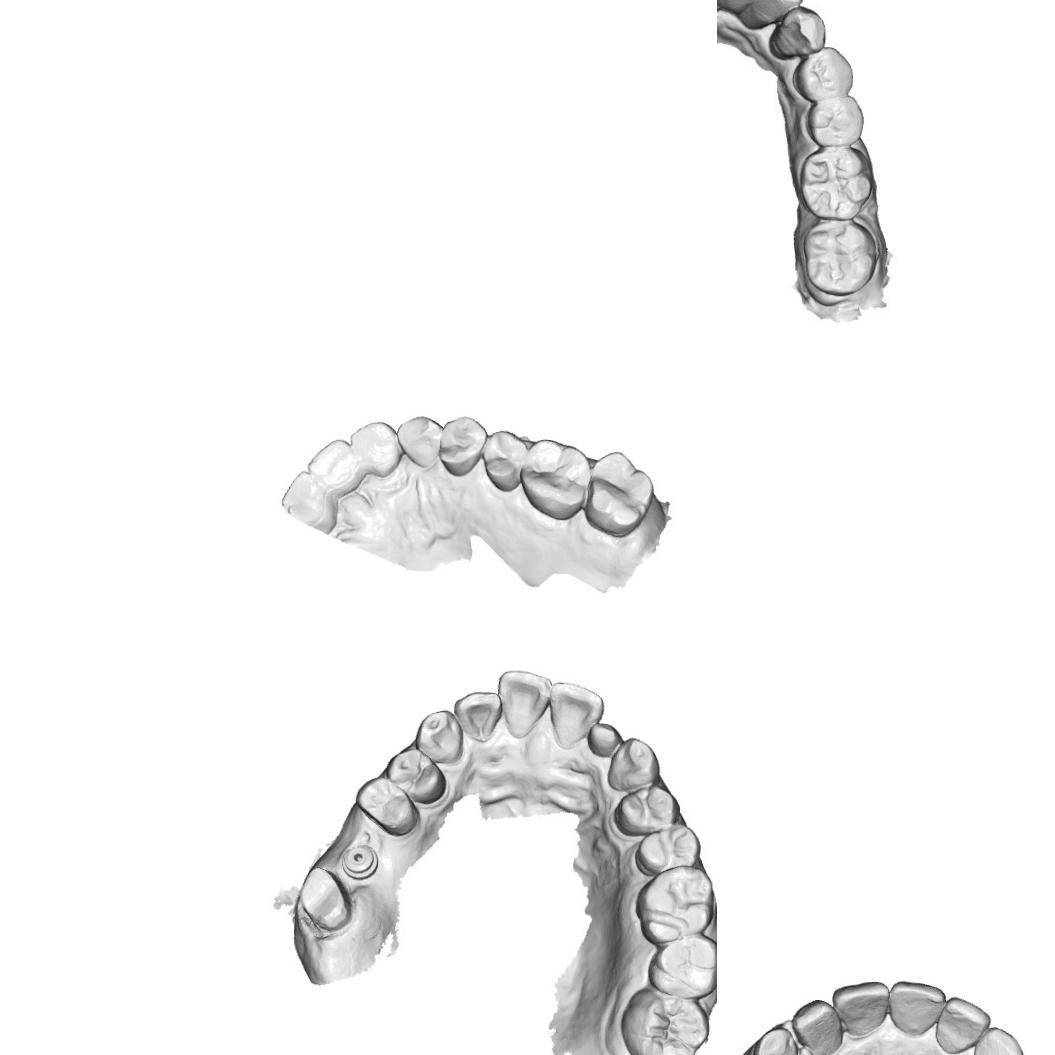canine: (769, 2, 829, 60), (606, 736, 662, 792), (414, 708, 466, 766), (395, 415, 444, 469), (969, 1024, 1028, 1055), (749, 1023, 798, 1055)
crown: (298, 866, 357, 938)
implant: (340, 843, 380, 880)
incisor: (496, 667, 551, 740), (548, 681, 606, 750), (933, 993, 993, 1055), (830, 980, 891, 1040), (888, 978, 948, 1038), (305, 438, 364, 498), (789, 997, 844, 1055), (350, 420, 402, 476), (453, 690, 503, 744), (740, 0, 795, 30), (586, 720, 623, 760), (735, 0, 769, 25)
molar: (632, 864, 716, 946), (582, 449, 655, 539), (618, 986, 712, 1055), (518, 436, 592, 522), (800, 220, 880, 297), (796, 144, 872, 220), (645, 932, 717, 999)
premolar: (352, 774, 422, 839), (382, 746, 448, 806), (633, 821, 703, 877), (613, 784, 682, 838), (791, 45, 854, 104), (804, 93, 866, 146), (437, 415, 488, 478), (480, 428, 528, 493)
